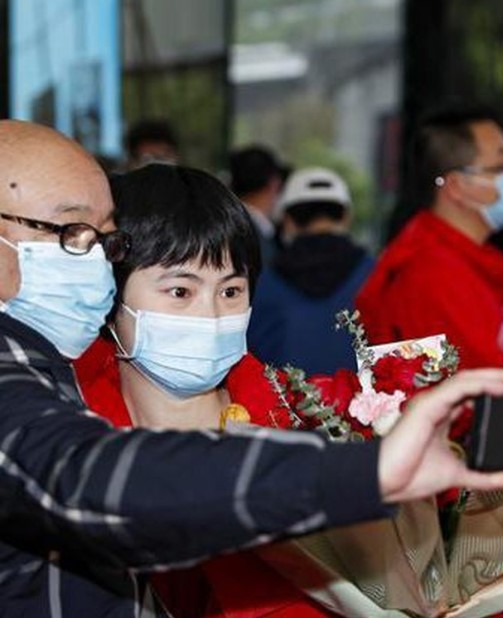face_with_mask: (112, 160, 254, 397), (0, 117, 125, 357), (408, 109, 503, 238)
